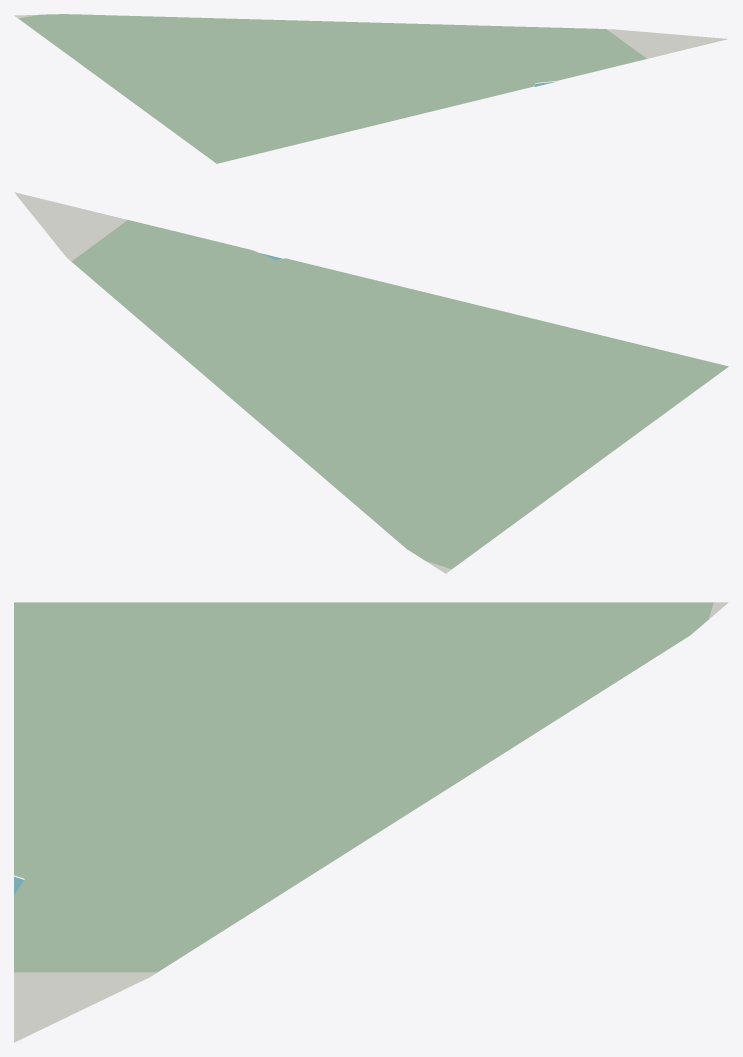
3 views of the same model, one above another, from view 1: azimuth 30°, elevation 25°; view 2: azimuth 150°, elevation 25°; view 3: azimuth 270°, elevation 25° (orthographic). The views are drawn at different scales.
Visible parts, largest first — view 1: city; view 2: city; view 3: city.
Boxes of the visible parts, <box> form: city: <box>14,14,727,163</box>; city: <box>14,192,728,573</box>; city: <box>14,602,728,1042</box>.
Bounding box in the file's own units: 147 × 0.205 × 101.
